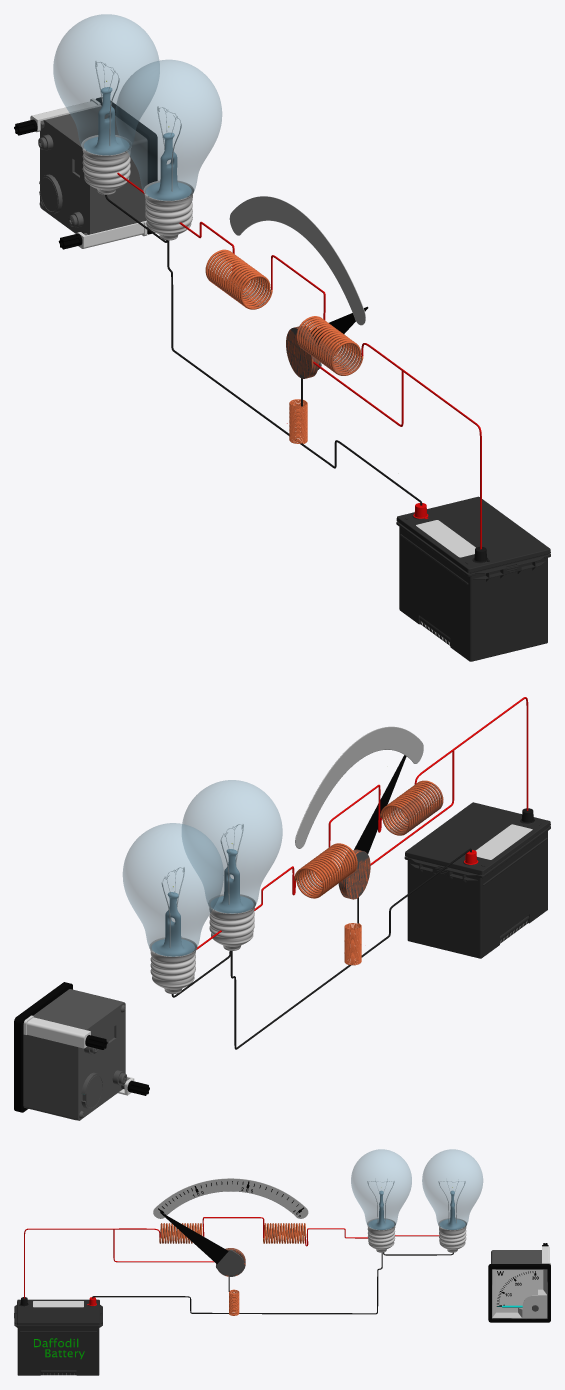
The model's file is CC PC compress 2.glb.
3 renders of one model, top to bottom at view 1: azimuth 30°, elevation 25°; view 2: azimuth 150°, elevation 25°; view 3: azimuth 270°, elevation 25°, orthographic. The views are drawn at different scales.
Parts seen in each view (by area): view 1: Bulb.002, Battery, Watt_Meter, Bulb.001, Current_Coil, meter_lebel, Red_Wire, Black_Wire, Pointer, Pressure_Coil; view 2: Bulb.002, Battery, Watt_Meter, Bulb.001, Current_Coil, meter_lebel, Pointer, Red_Wire, Black_Wire, Pressure_Coil; view 3: Bulb.002, Battery, Watt_Meter, meter_lebel, Bulb.001, Current_Coil, Pointer, Red_Wire, Black_Wire.
Boxes of the visible parts, <box> form: Bulb.002: <box>53,14,222,200</box>; Battery: <box>396,496,550,661</box>; Watt_Meter: <box>14,97,157,249</box>; Bulb.001: <box>81,61,194,240</box>; Current_Coil: <box>205,249,363,375</box>; meter_lebel: <box>229,196,365,325</box>; Red_Wire: <box>117,172,481,549</box>; Black_Wire: <box>105,195,422,505</box>; Pointer: <box>286,306,368,378</box>; Pressure_Coil: <box>289,399,307,443</box>; Bulb.002: <box>122,780,282,956</box>; Battery: <box>404,802,550,958</box>; Watt_Meter: <box>14,982,149,1120</box>; Bulb.001: <box>149,824,256,993</box>; Current_Coil: <box>294,780,443,898</box>; meter_lebel: <box>295,726,423,848</box>; Pointer: <box>338,755,406,899</box>; Red_Wire: <box>196,697,528,949</box>; Black_Wire: <box>171,848,471,1049</box>; Pressure_Coil: <box>344,923,361,965</box>; Bulb.002: <box>351,1149,483,1230</box>; Battery: <box>14,1297,102,1375</box>; Watt_Meter: <box>488,1243,550,1322</box>; meter_lebel: <box>153,1178,308,1218</box>; Bulb.001: <box>367,1179,466,1252</box>; Current_Coil: <box>159,1223,306,1243</box>; Pointer: <box>160,1212,245,1276</box>; Red_Wire: <box>24,1217,439,1298</box>; Black_Wire: <box>92,1252,453,1314</box>.
Size of the model in its own units: 0.284 by 0.7608 by 1.79.
3 materials, 3 textured.
